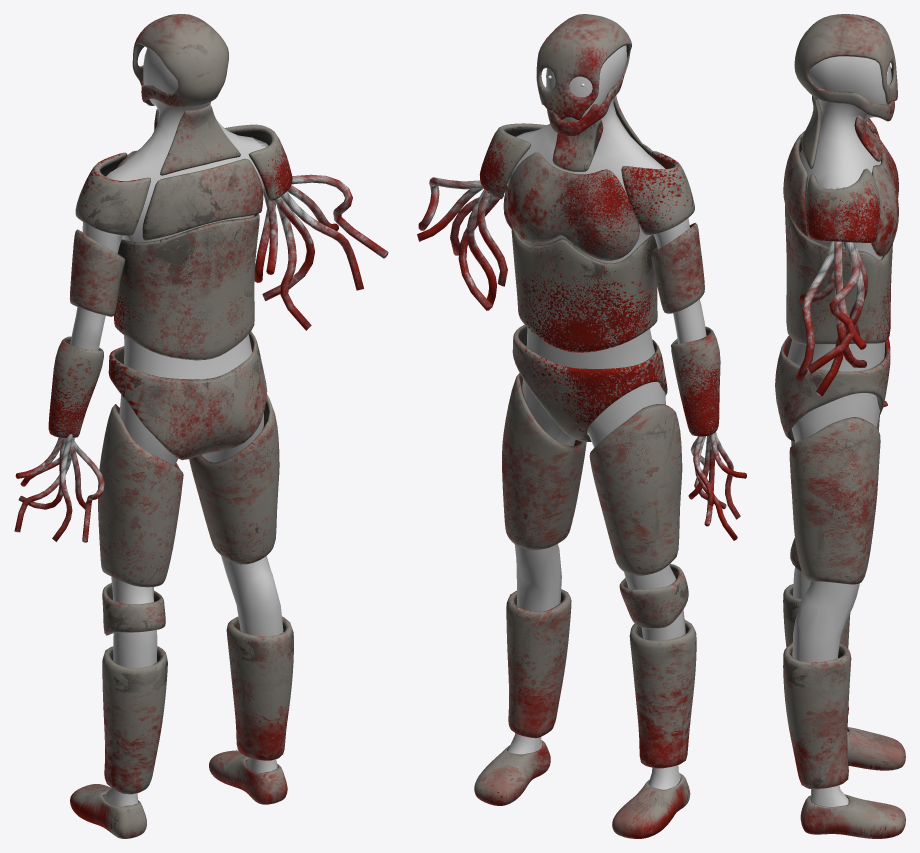
The model's file is Android Model.fbx.
3 views of the same model, side by side, from view 1: azimuth 30°, elevation 25°; view 2: azimuth 150°, elevation 25°; view 3: azimuth 270°, elevation 25° (orthographic).
Parts seen in each view (by area): view 1: Top Leg.001, Body Retopo.001, Torso.001, Lower Leg .001, Diaper.001, Shoulder Blades.001, Face Plate.001, Wires Arm.001, Shoulders.002, Feet.001, Lower Arm.001, Upper Arm.001 (+3 smaller); view 2: Top Leg.001, Body Retopo.001, Lower Leg .001, Torso.001, Chest.001, Face Plate.001, Diaper.001, Shoulders.002, Feet.001, Wires Arm.001, Lower Arm.001, Upper Arm.001 (+3 smaller); view 3: Body Retopo.001, Top Leg.001, Lower Leg .001, Torso.001, Face Plate.001, Feet.001, Wires Arm.001, Diaper.001, Shoulders.002, Chest.001, Shoulder Blades.001, Back Neck.001 (+1 smaller).
Boxes of the visible parts, <box> form: Top Leg.001: <box>98,394,279,587</box>; Body Retopo.001: <box>65,48,283,806</box>; Torso.001: <box>114,213,259,360</box>; Lower Leg .001: <box>102,616,293,794</box>; Diaper.001: <box>108,331,267,460</box>; Shoulder Blades.001: <box>142,158,263,240</box>; Face Plate.001: <box>132,14,228,107</box>; Wires Arm.001: <box>254,174,388,330</box>; Shoulders.002: <box>75,124,292,235</box>; Feet.001: <box>70,750,287,838</box>; Lower Arm.001: <box>48,336,103,437</box>; Upper Arm.001: <box>69,229,125,316</box>; Top Leg.001: <box>502,373,682,575</box>; Body Retopo.001: <box>507,45,706,789</box>; Lower Leg .001: <box>506,589,696,768</box>; Torso.001: <box>511,224,657,352</box>; Chest.001: <box>506,152,639,260</box>; Face Plate.001: <box>536,14,631,136</box>; Diaper.001: <box>512,324,667,441</box>; Shoulders.002: <box>479,123,694,235</box>; Feet.001: <box>474,740,690,838</box>; Wires Arm.001: <box>417,177,511,310</box>; Lower Arm.001: <box>671,326,720,436</box>; Upper Arm.001: <box>651,222,704,313</box>; Body Retopo.001: <box>787,56,891,806</box>; Top Leg.001: <box>789,415,880,584</box>; Lower Leg .001: <box>783,584,851,789</box>; Torso.001: <box>785,204,892,344</box>; Face Plate.001: <box>794,14,897,121</box>; Feet.001: <box>800,727,905,838</box>; Wires Arm.001: <box>795,241,867,396</box>; Diaper.001: <box>775,335,890,441</box>; Shoulders.002: <box>805,118,880,242</box>; Chest.001: <box>871,132,898,256</box>; Shoulder Blades.001: <box>783,131,807,236</box>; Back Neck.001: <box>801,95,821,168</box>.
Size of the model in its own units: 199 by 429 by 65.18.
